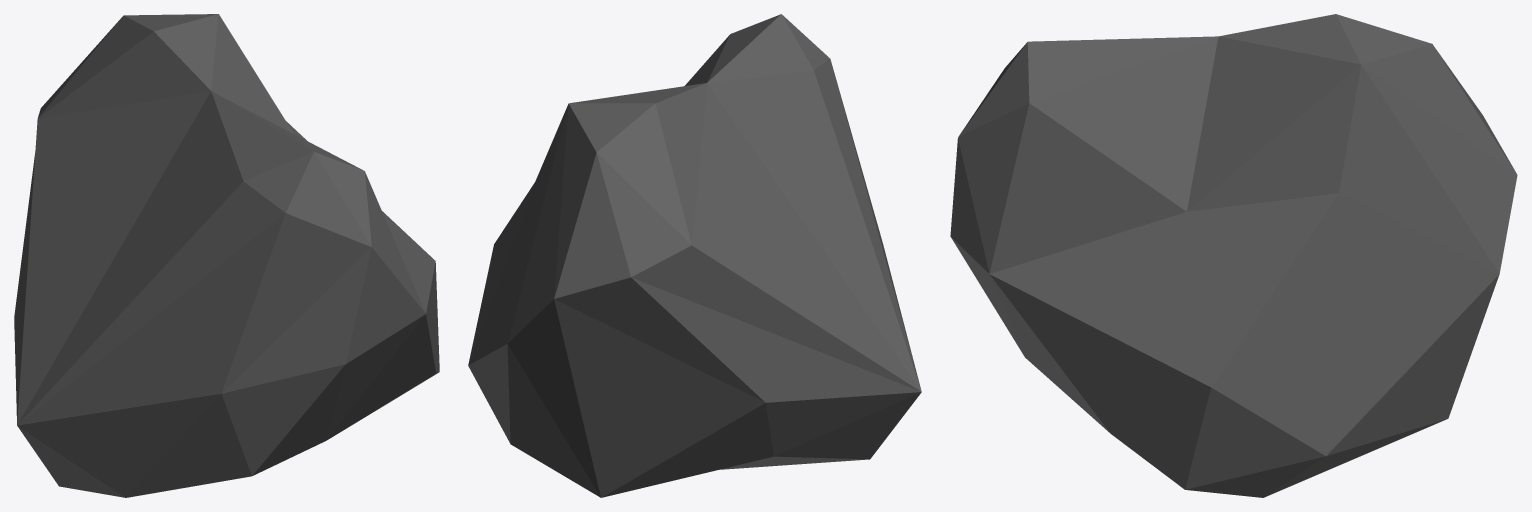
Rendered from Rock_04.fbx.
3 views of the same model, side by side, from view 1: azimuth 30°, elevation 25°; view 2: azimuth 150°, elevation 25°; view 3: azimuth 270°, elevation 25° (orthographic). The views are drawn at different scales.
Parts seen in each view (by area): view 1: Rock_04; view 2: Rock_04; view 3: Rock_04.
Part boxes in pixels (x1=…): Rock_04: x1=14, y1=14, x2=439, y2=497; Rock_04: x1=468, y1=14, x2=921, y2=497; Rock_04: x1=950, y1=14, x2=1517, y2=497.
Size of the model in its own units: 6.15 by 5.5 by 6.62.
